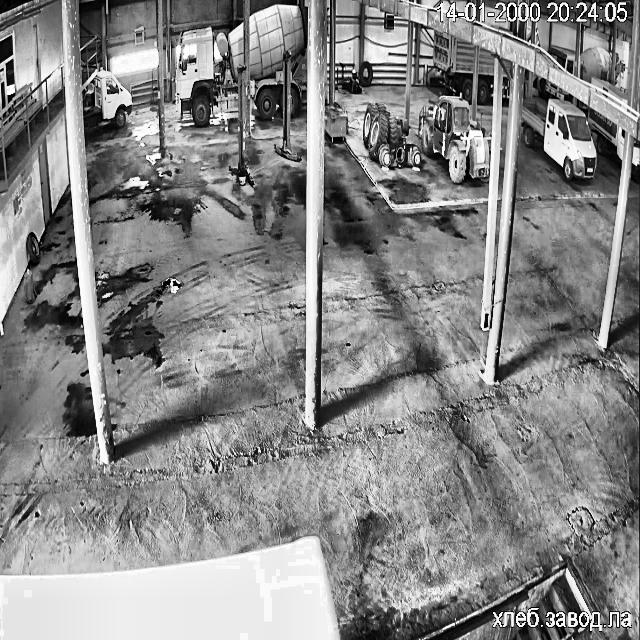car lift: (274, 52, 300, 161), (229, 66, 252, 185)
tractor: (418, 96, 489, 182), (362, 103, 420, 166)
truck: (176, 24, 244, 124), (248, 4, 306, 118), (520, 99, 596, 180), (433, 29, 473, 101), (92, 69, 132, 126), (588, 108, 623, 157), (580, 46, 610, 83), (477, 48, 494, 102), (592, 78, 628, 102), (549, 45, 574, 73), (538, 78, 570, 97), (500, 61, 510, 97), (632, 140, 640, 176), (616, 129, 624, 160), (616, 59, 620, 76)
